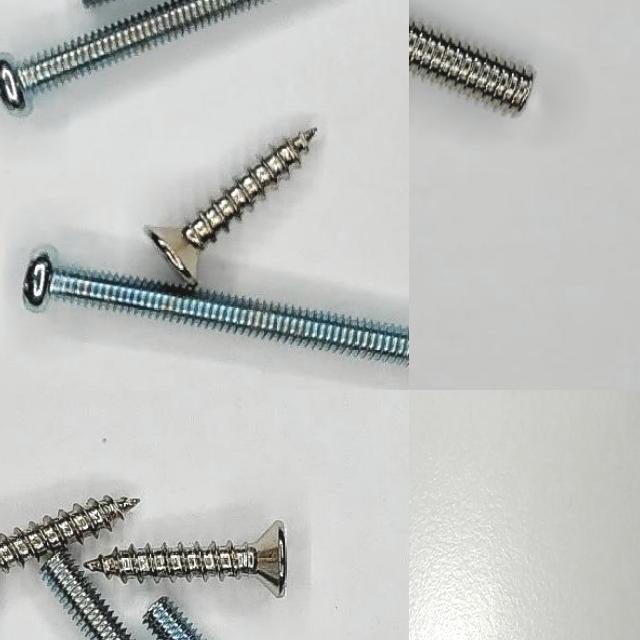Screw: (23, 251, 409, 367), (0, 0, 265, 110), (150, 131, 315, 286), (84, 520, 287, 598), (409, 21, 535, 114), (0, 495, 140, 570), (42, 551, 135, 640)
